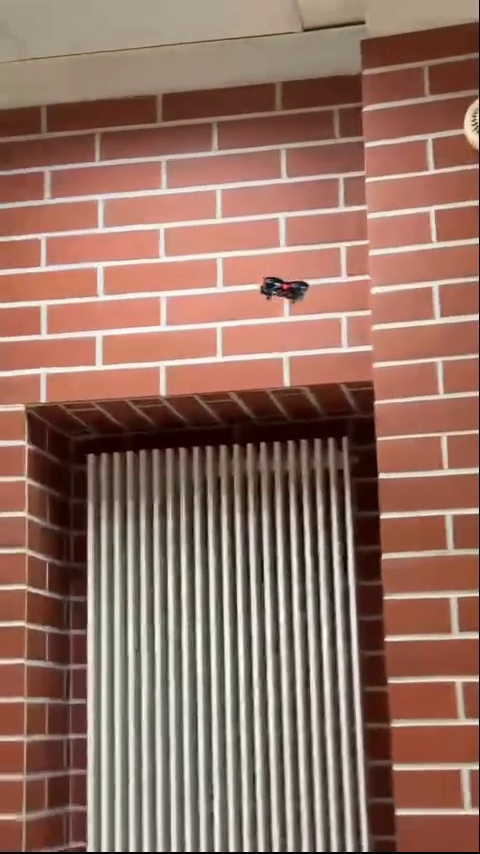drone: (256, 276, 311, 306)
